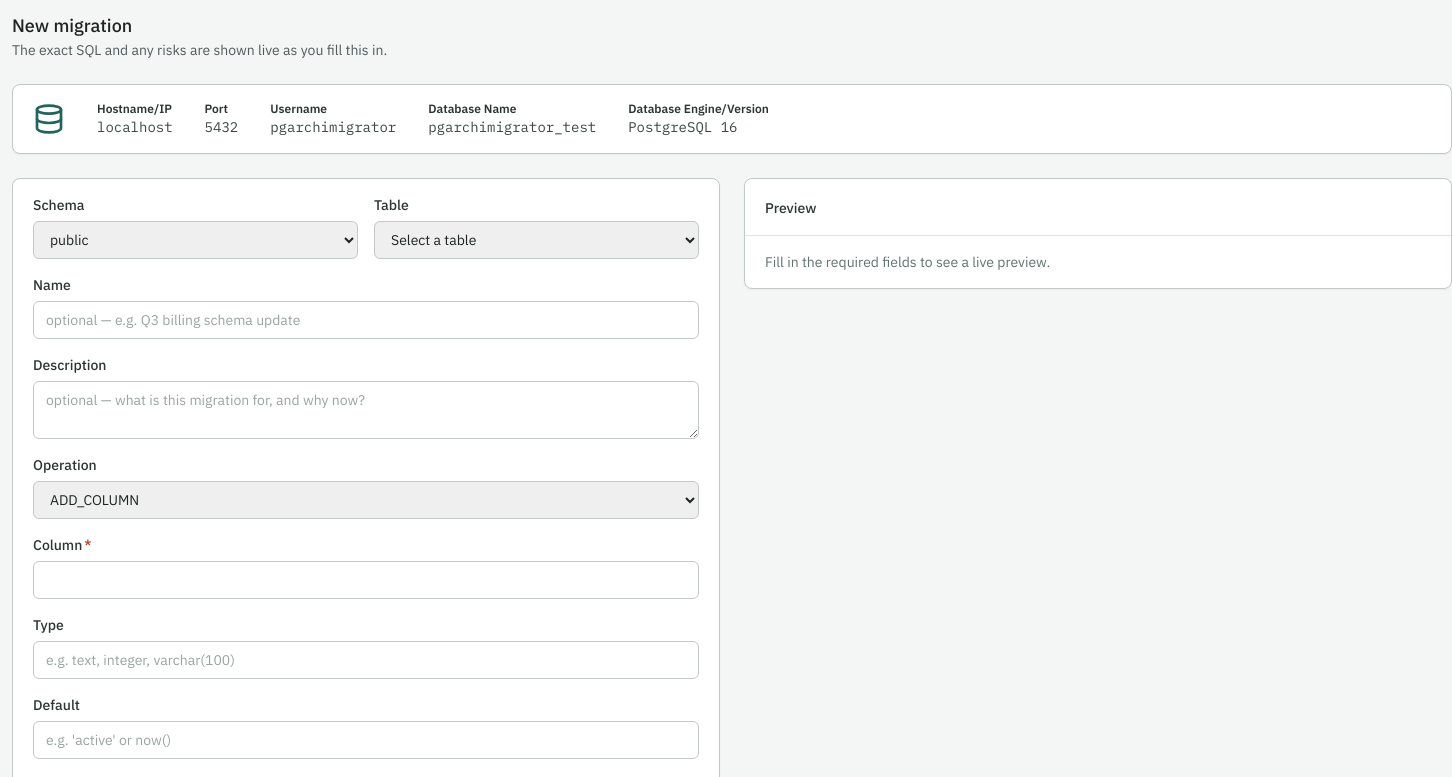
Test: NewMigration — write load check (SHADOW_TABLE only) › does not show the write-load check for a DIRECT_DDL preview
Select "orders" in the dropdown labelled "Table" at (536, 240), box [374,221,699,259]
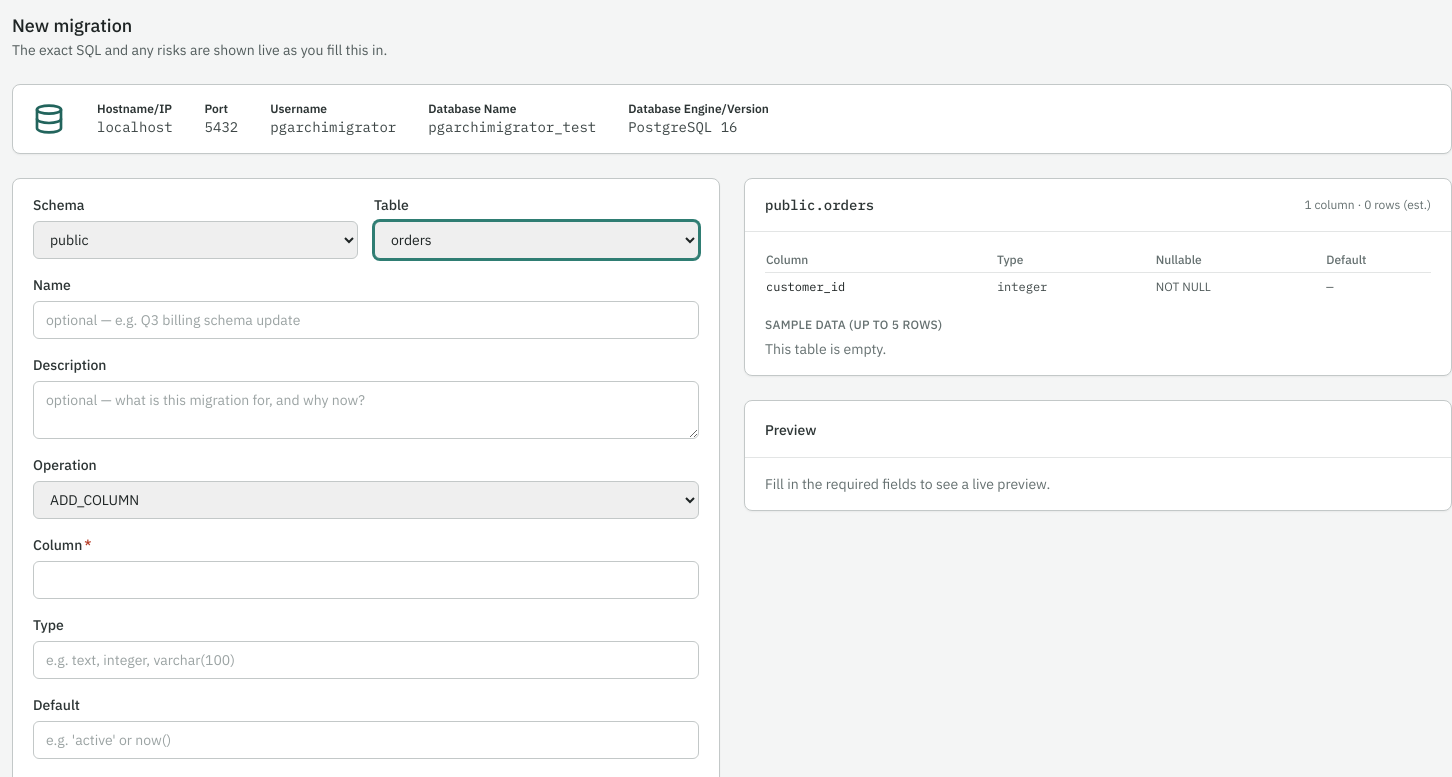
Select "ALTER_COLUMN_TYPE" in the dropdown labelled "Operation" at (366, 500), box [33,481,699,519]
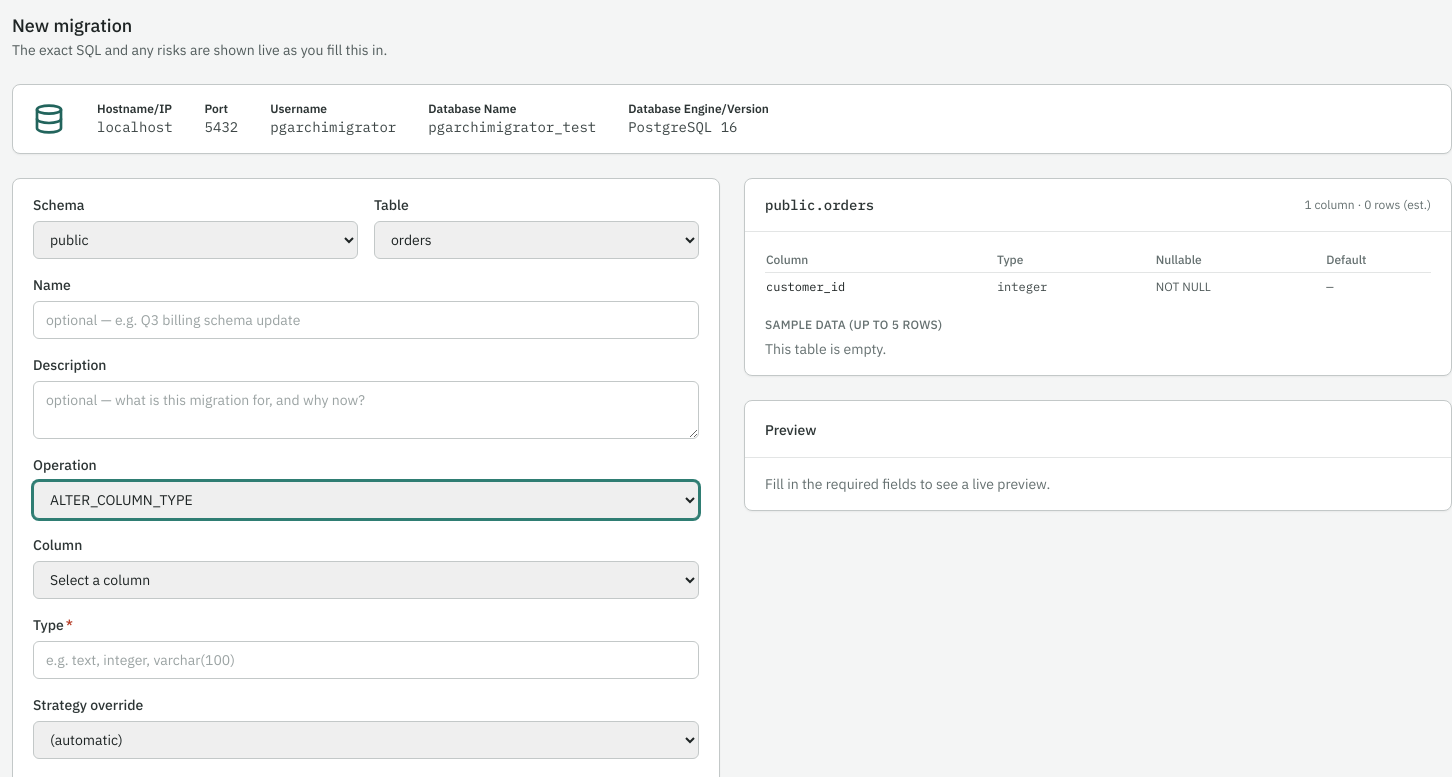
Select "customer_id — integer" in the dropdown labelled "Column" at (366, 580), box [33,561,699,599]
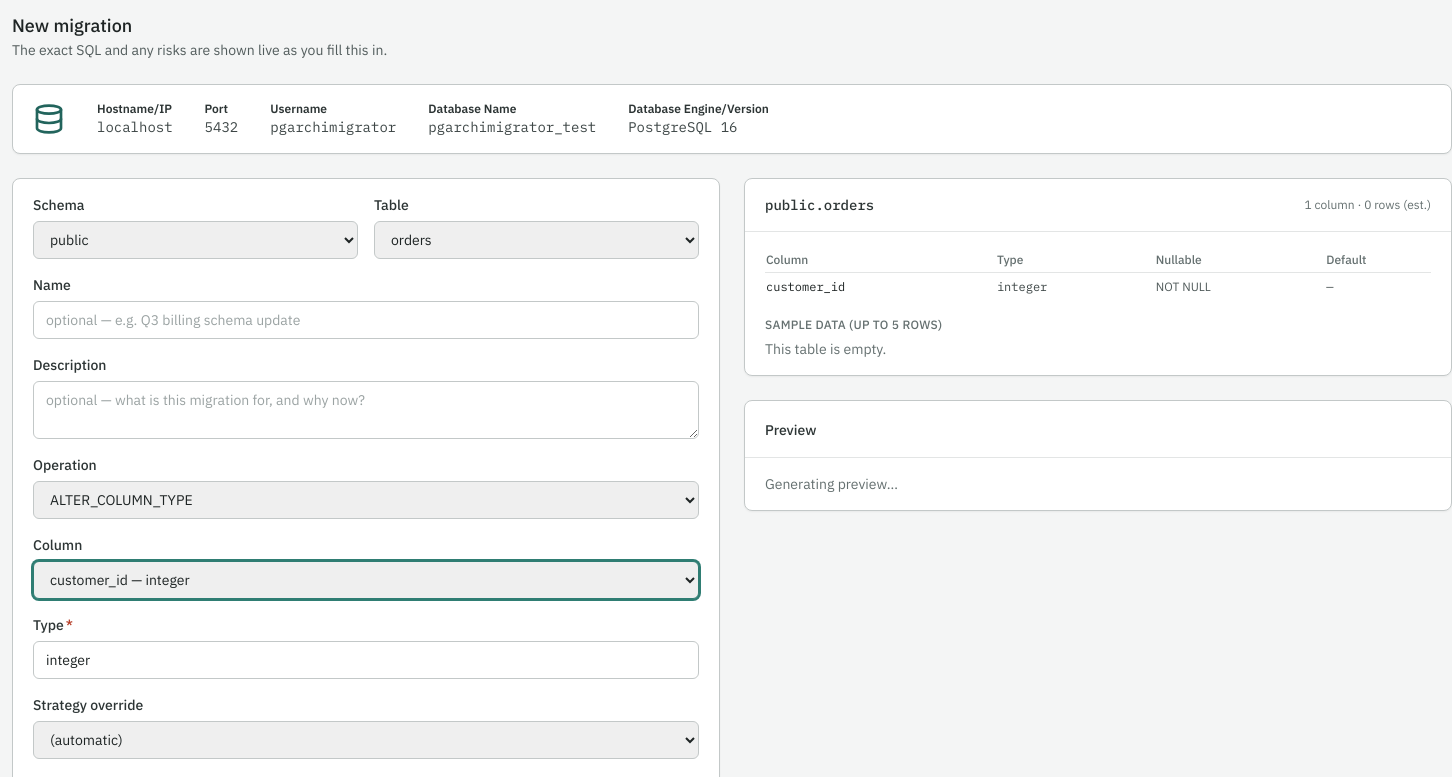
Type "text" into the field labelled "Type*" at (366, 660), box [33,641,699,679]
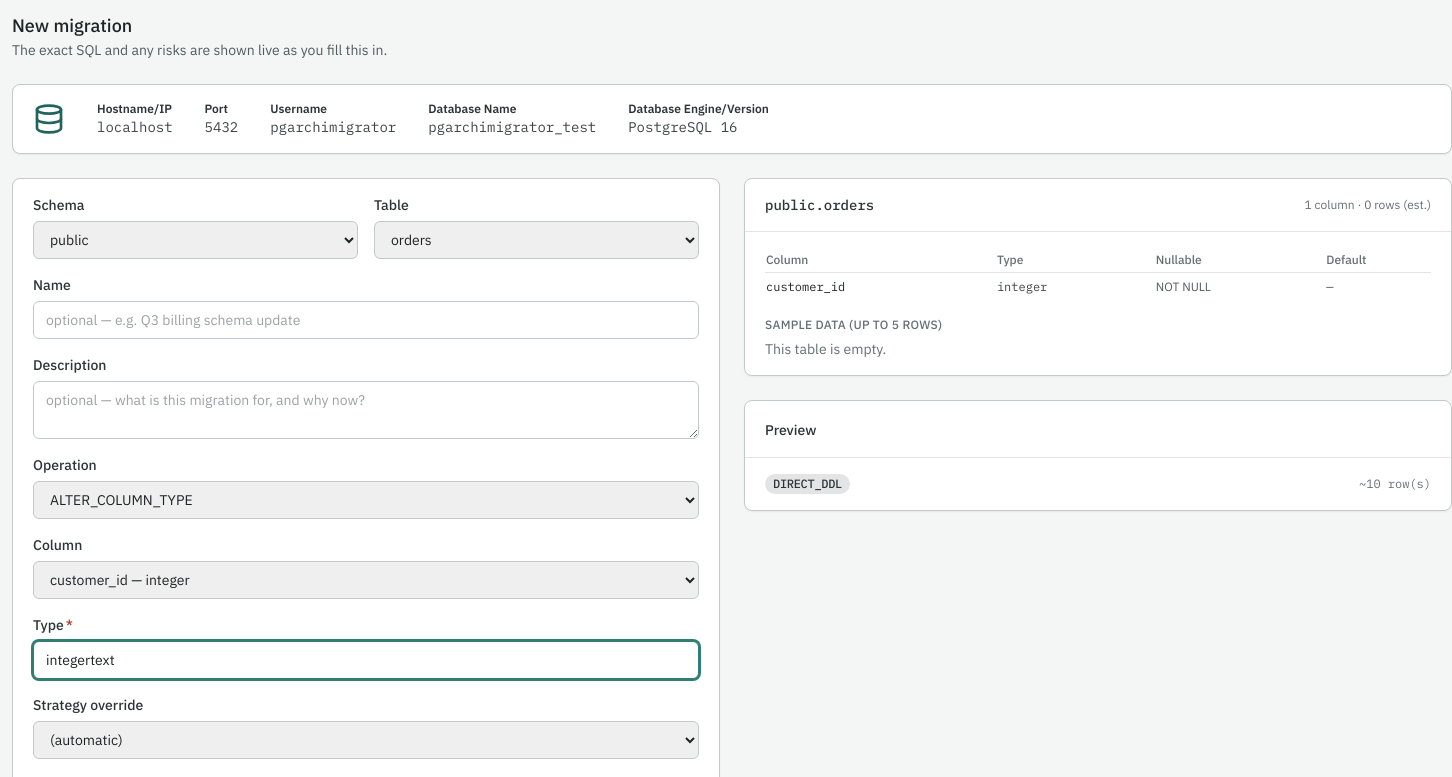
Expected: the text "Generating preview…" is gone
